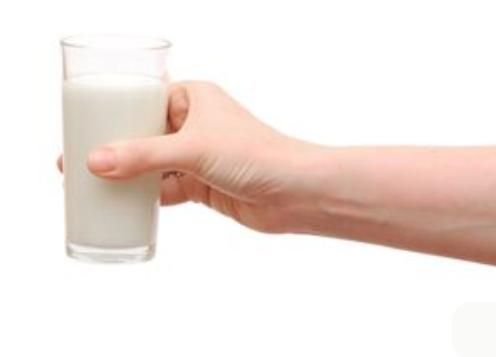produk_susu: (65, 37, 164, 257)
